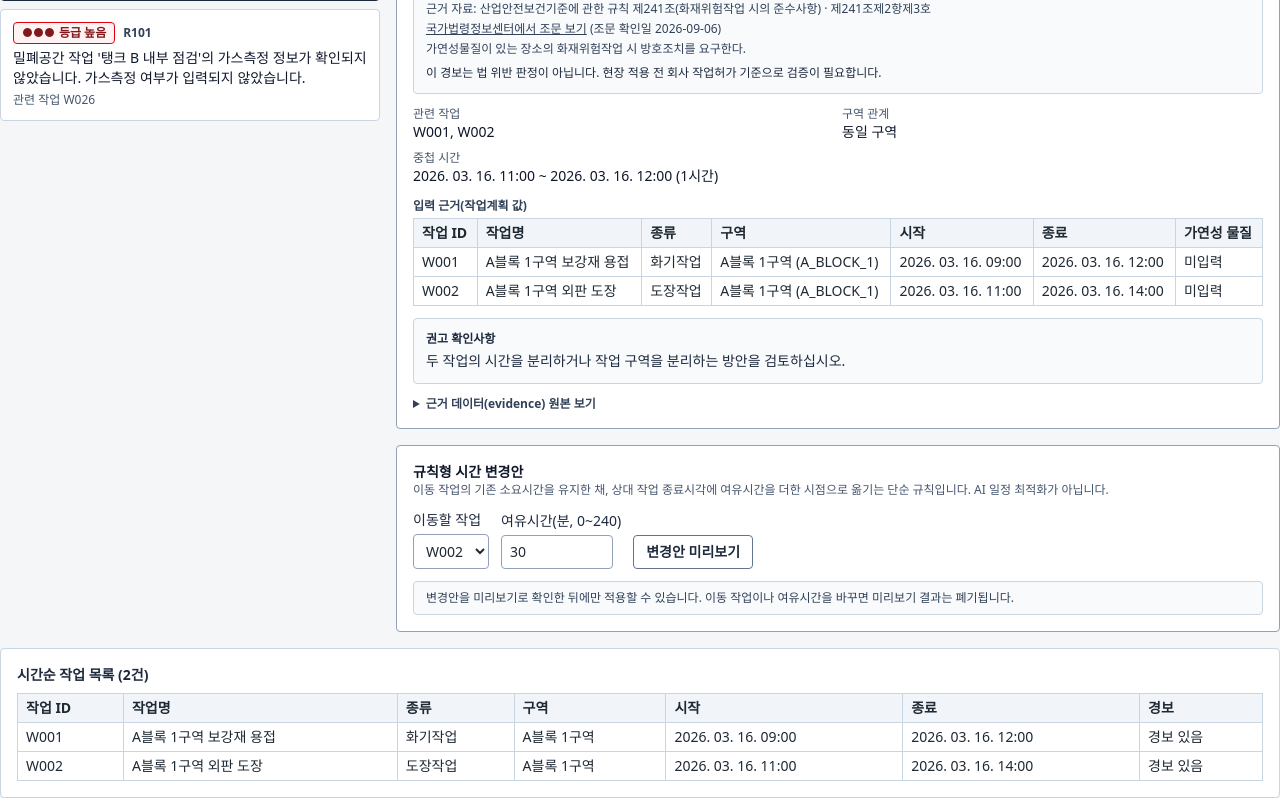
분석 결과 화면 › 일정 변경 미리보기가 만료되면 오류 코드를 보여준다
(page scrolled)
What coordinates should you click on to do the following:
click the button "변경안 미리보기"
I would click on:
 (693, 552)
Its box is [633,535,753,569].
(page scrolled)
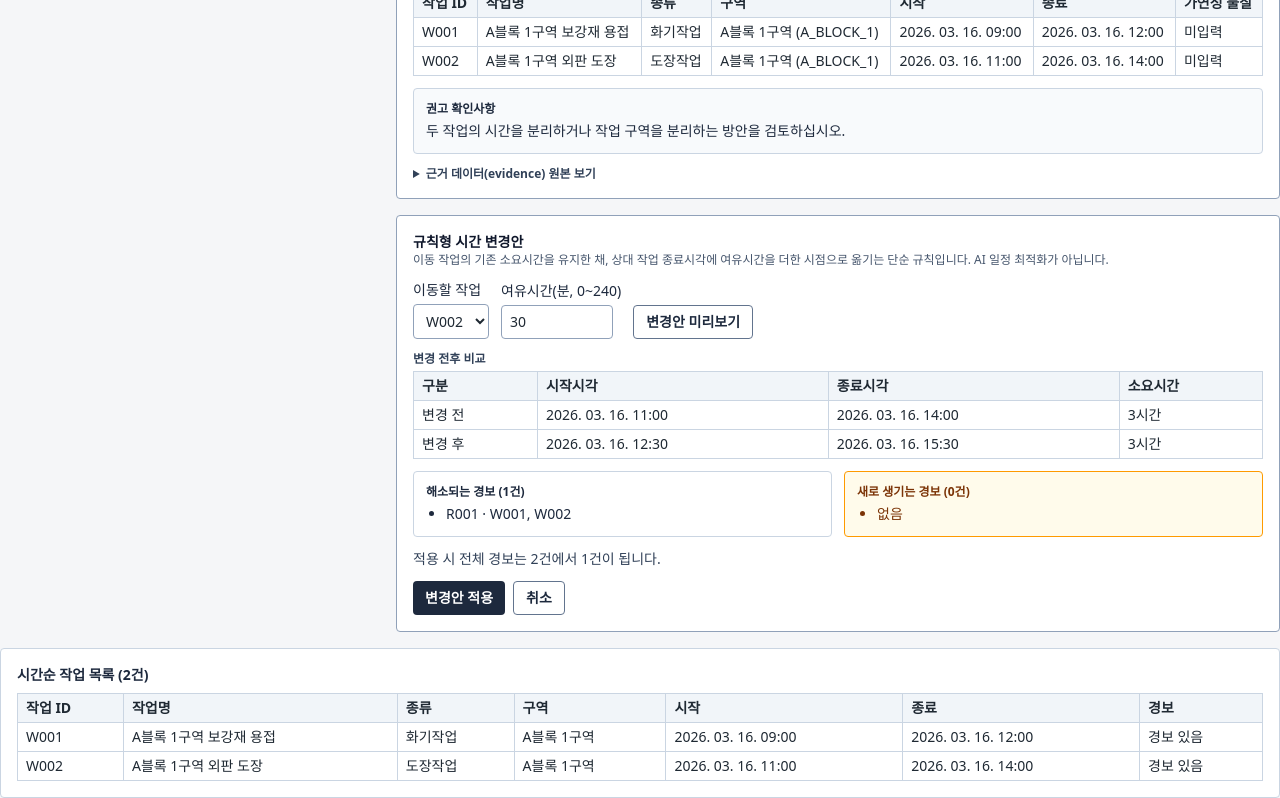
What coordinates should you click on to do the following:
click the button "변경안 적용"
I would click on:
 (459, 598)
Its box is [413,581,505,615].
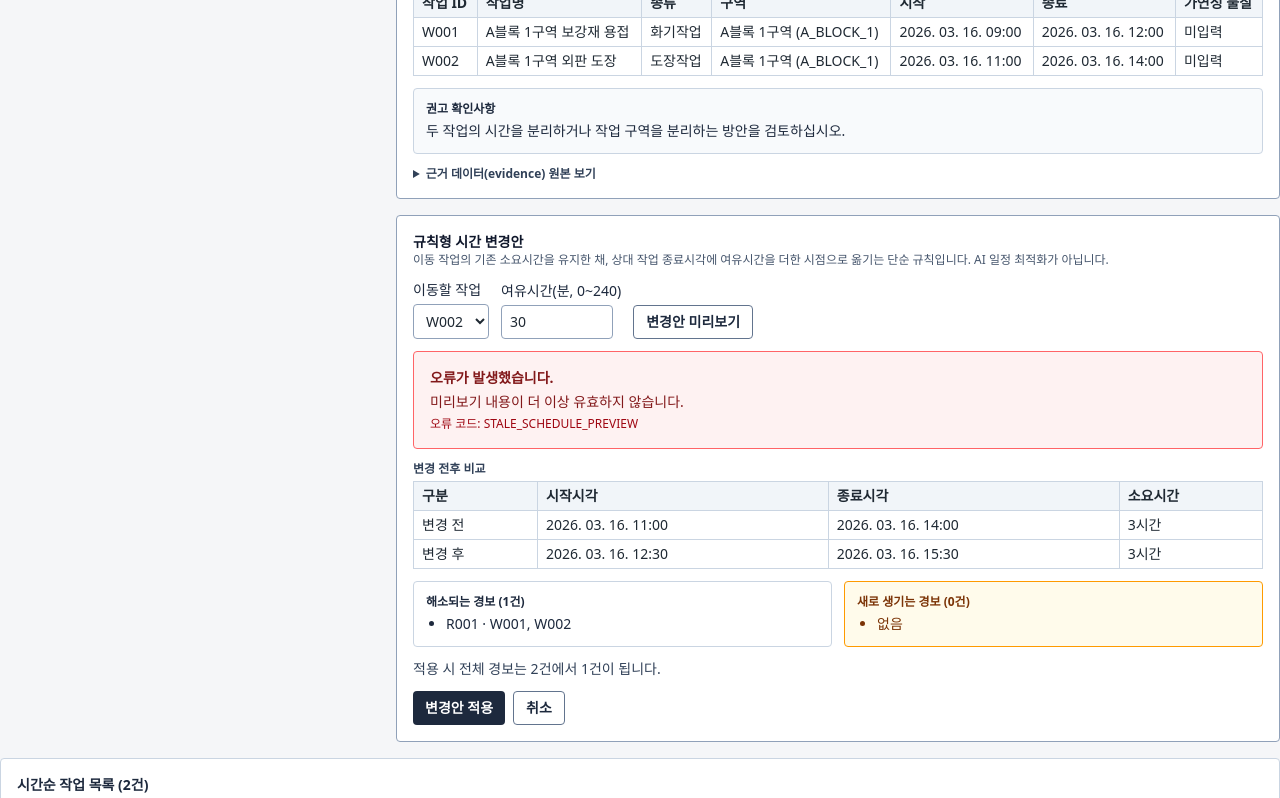
Result: the message shows "STALE_SCHEDULE_PREVIEW" at [484,415,638,432]
